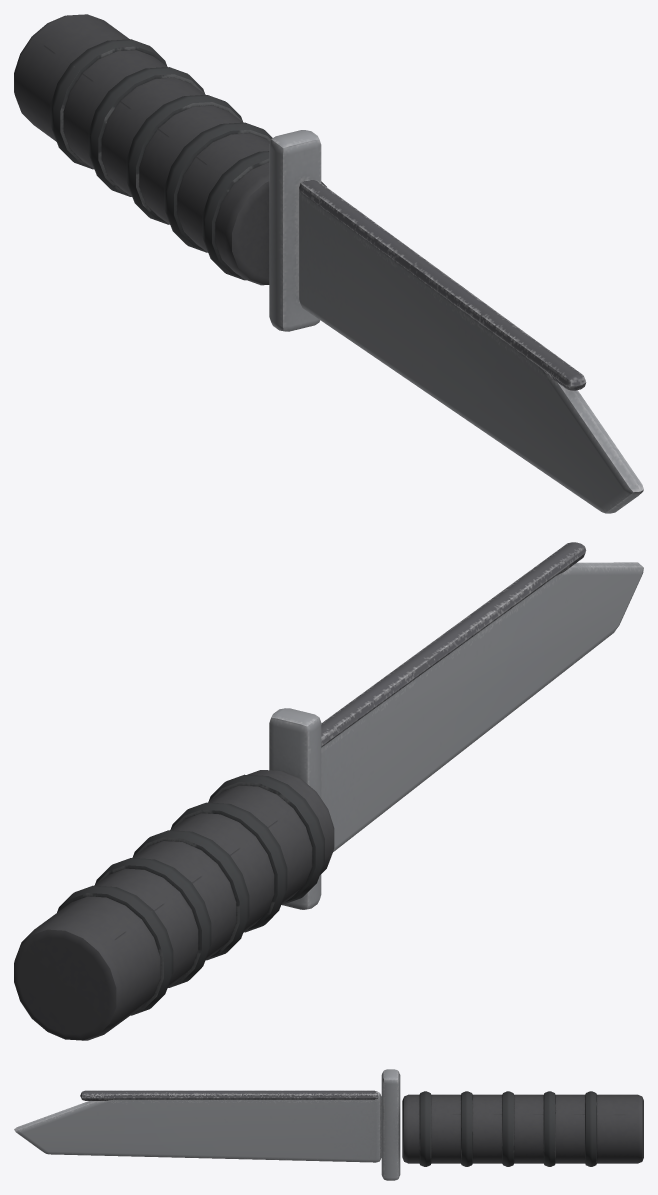
The model's file is knife.fbx.
3 views of the same model, one above another, from view 1: azimuth 30°, elevation 25°; view 2: azimuth 150°, elevation 25°; view 3: azimuth 270°, elevation 25° (orthographic). The views are drawn at different scales.
Visible parts, largest first — view 1: knife; view 2: knife; view 3: knife.
Part boxes in pixels (x1=…): knife: x1=14, y1=14, x2=643, y2=513; knife: x1=14, y1=542, x2=643, y2=1040; knife: x1=14, y1=1069, x2=643, y2=1180.
Size of the model in its own units: 0.0325 by 0.05 by 0.2739.
